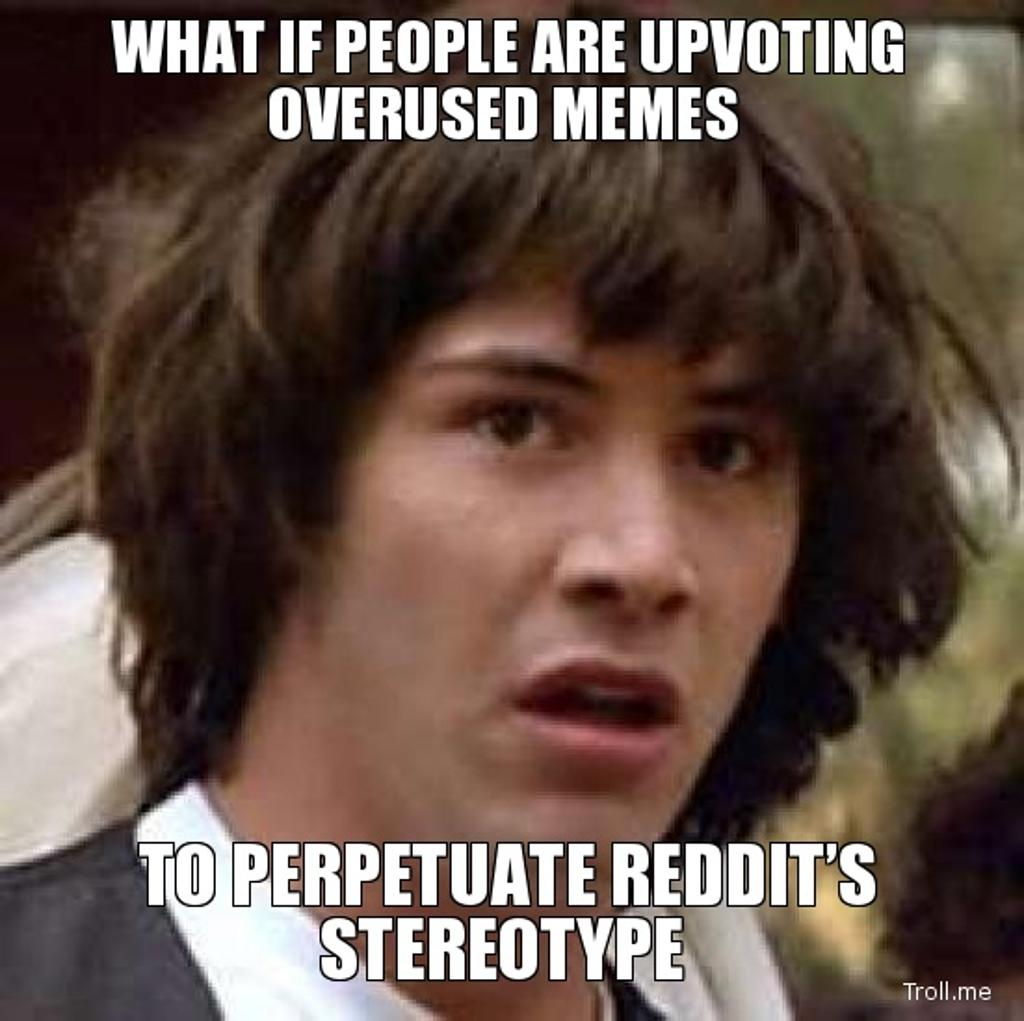face: (318, 196, 798, 876)
